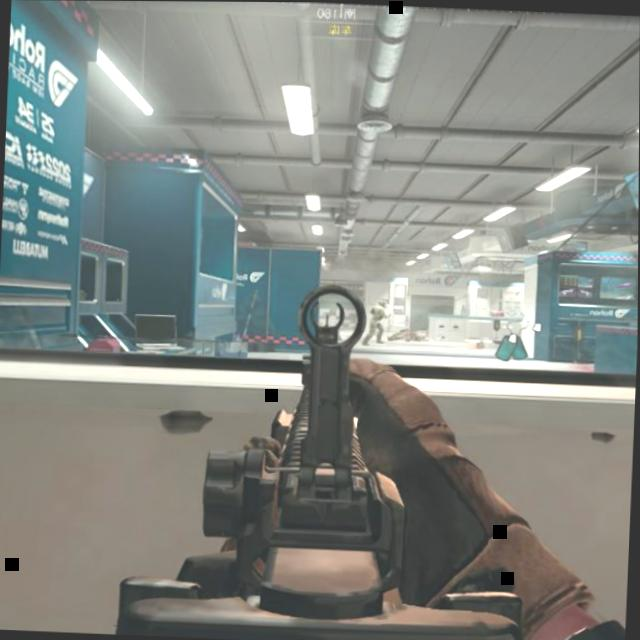MW2_body: (362, 297, 393, 346)
